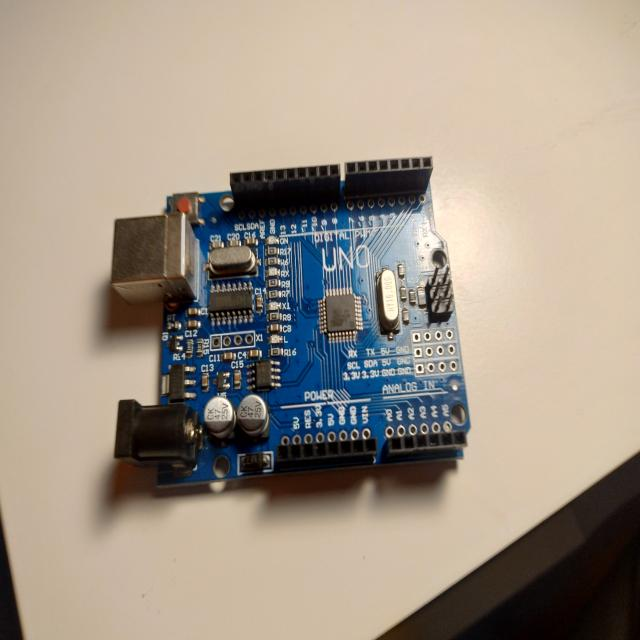arduino: (103, 148, 482, 488)
